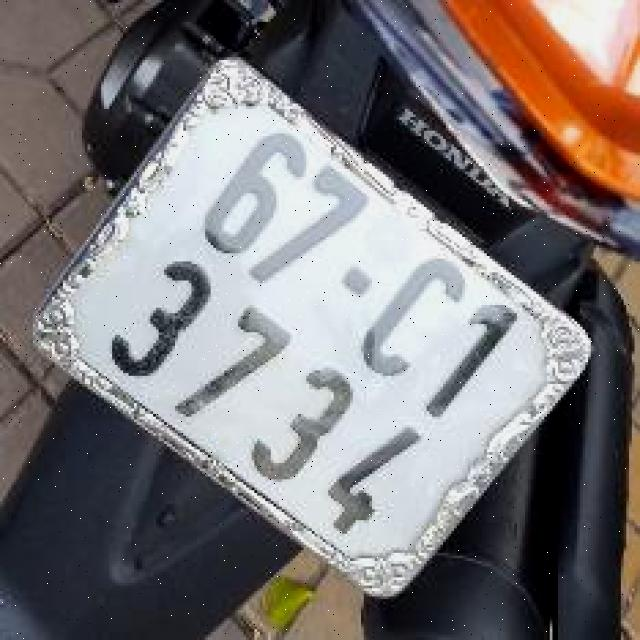1: (400, 280, 544, 445)
3: (86, 240, 241, 396), (237, 347, 387, 497)
4: (307, 399, 454, 552)
6: (185, 116, 329, 274)
7: (232, 151, 385, 310), (157, 289, 310, 445)
C: (345, 236, 487, 399)
